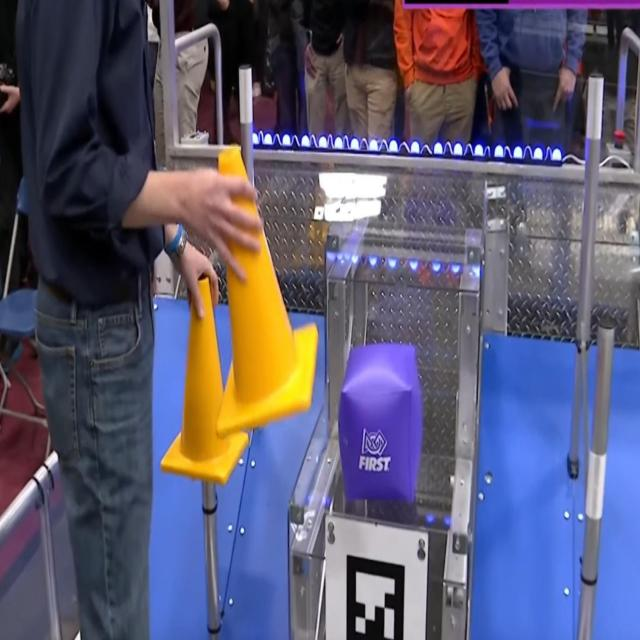frc_cone: (216, 151, 318, 433), (161, 276, 249, 484)
frc_cube: (339, 343, 422, 504)
